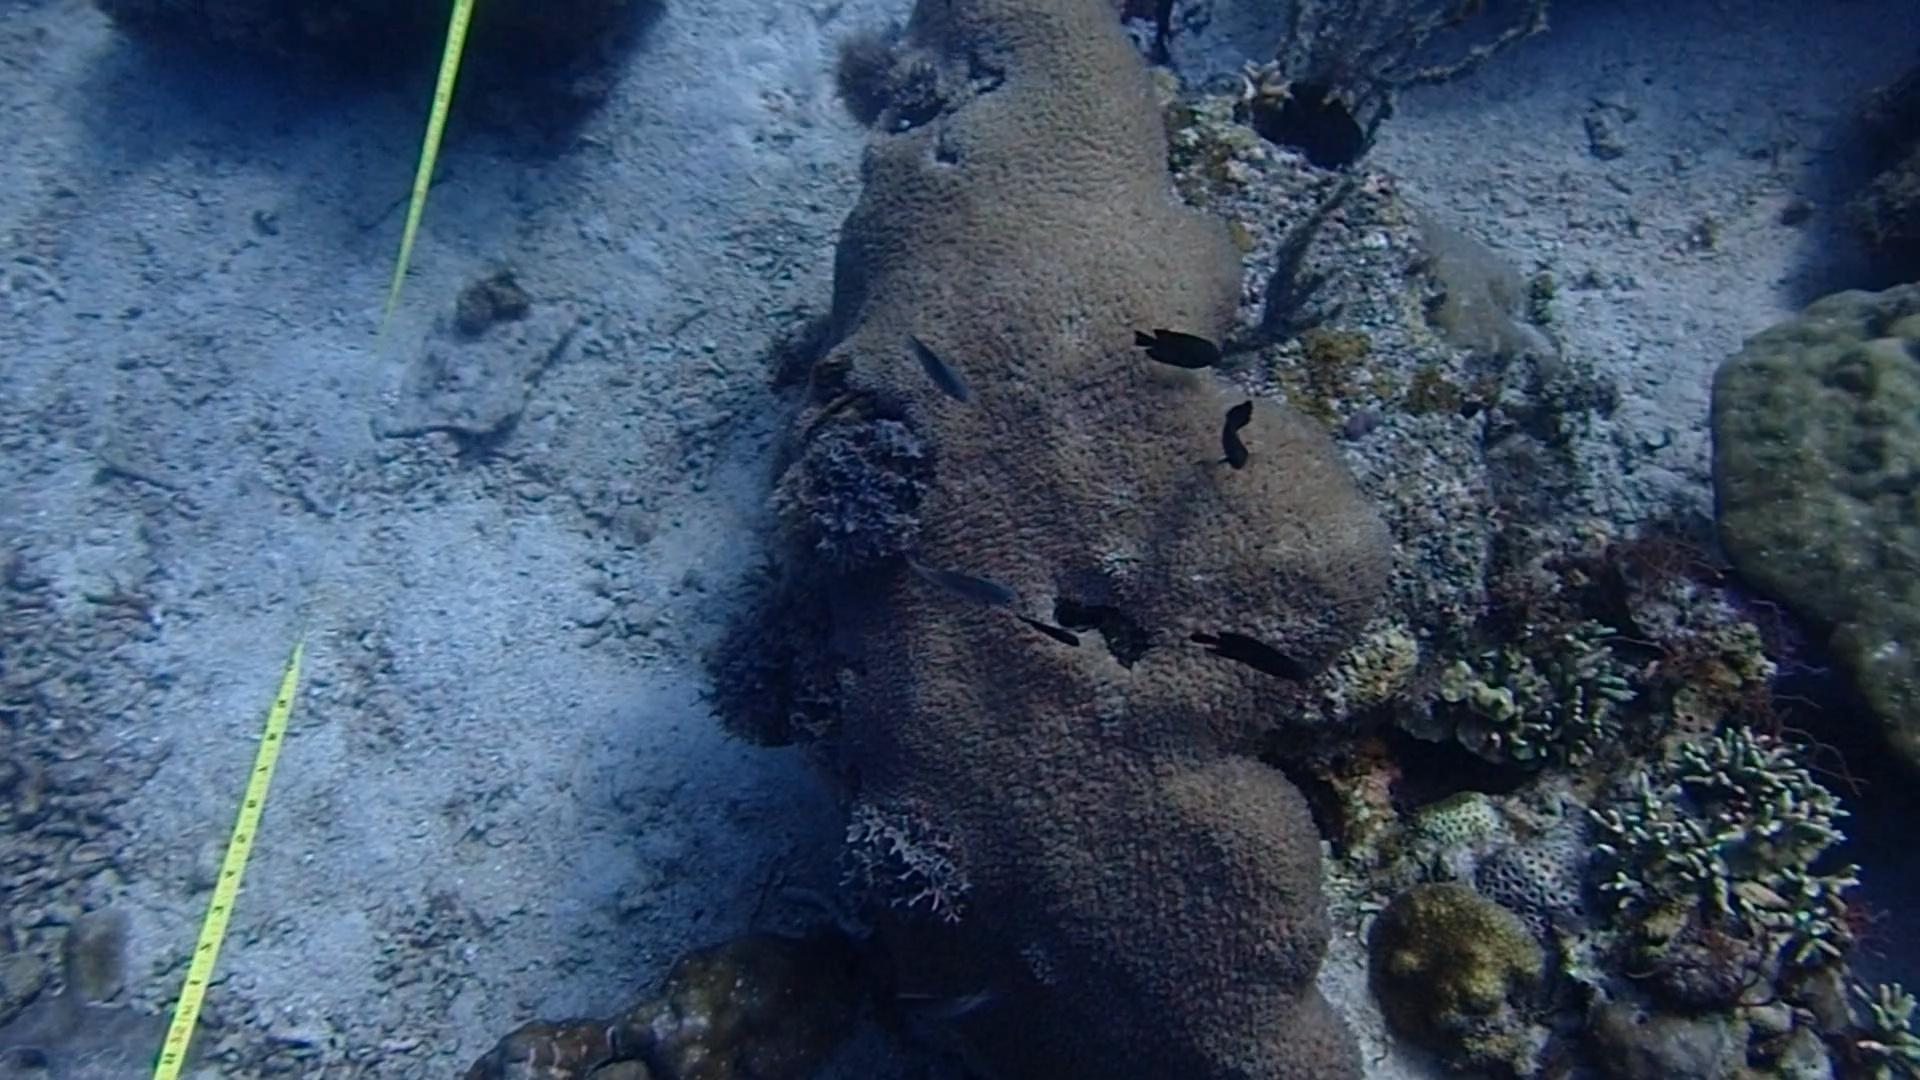Dark Fish: (1191, 621, 1313, 688), (1134, 320, 1228, 382), (1212, 388, 1259, 473), (1019, 611, 1081, 653)
Light Fish: (901, 542, 1034, 622), (891, 980, 993, 1058), (899, 319, 977, 405)
